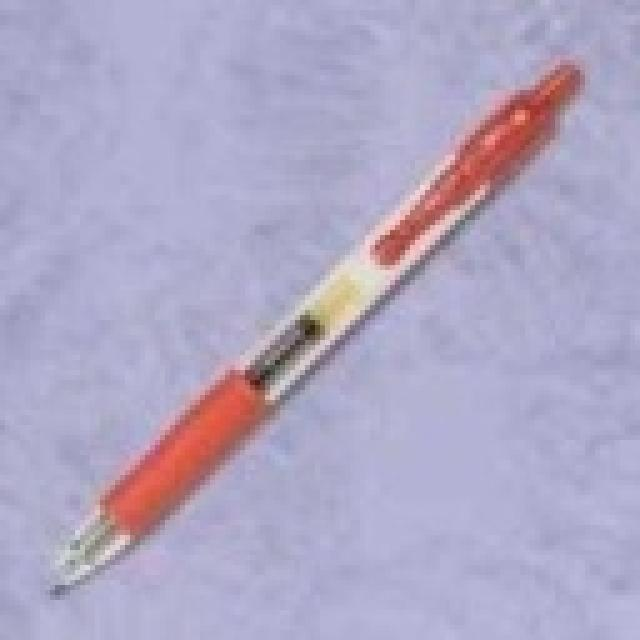pen: (41, 63, 592, 605)
